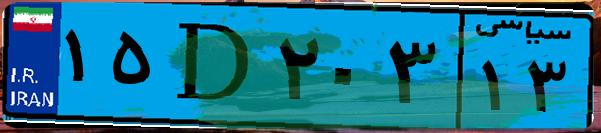0: (330, 28, 385, 110)
1: (57, 26, 110, 100), (475, 38, 525, 113)
2: (270, 28, 330, 110)
3: (385, 28, 445, 110), (525, 38, 570, 115)
5: (110, 28, 158, 98)
D: (158, 12, 270, 120)
